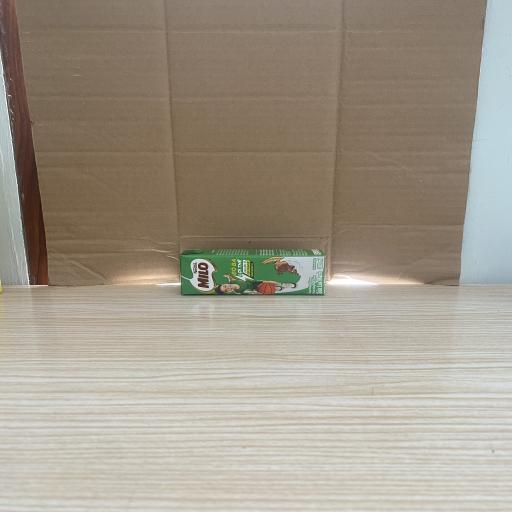milo: (180, 249, 325, 297)
